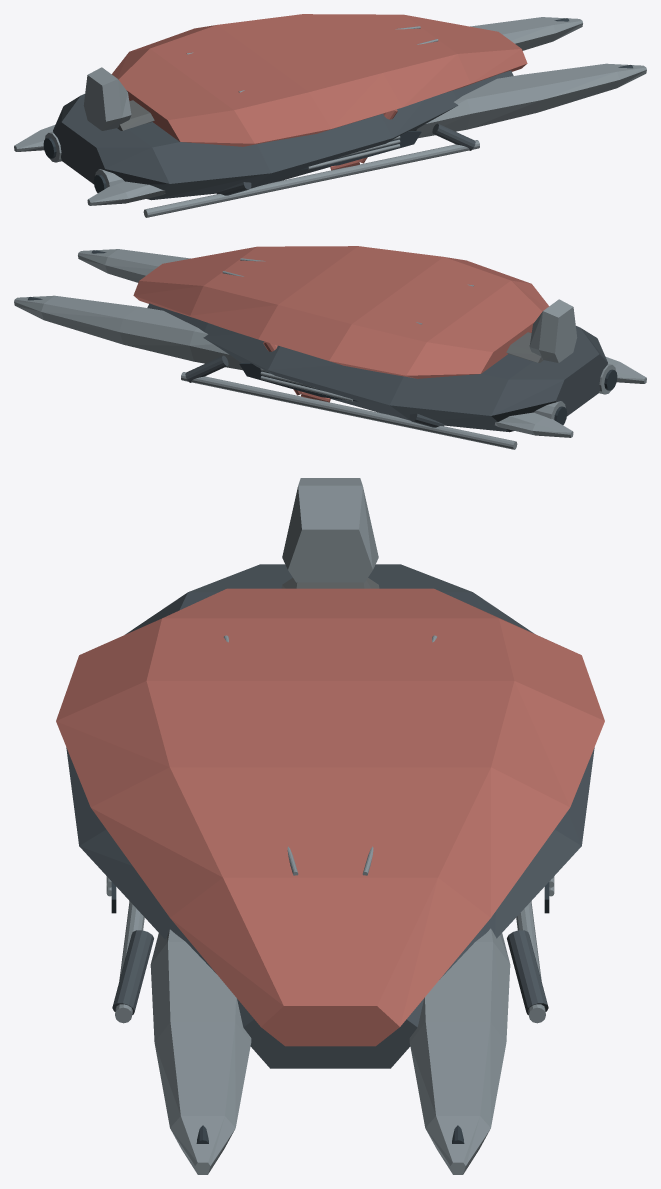
Rendered from solos_red_off.glb.
3 renders of one model, top to bottom at view 1: azimuth 30°, elevation 25°; view 2: azimuth 150°, elevation 25°; view 3: azimuth 270°, elevation 25°, orthographic. The views are drawn at different scales.
Visible parts, largest first — view 1: upper_fairing_1, chassis_0, forward_prongs_2, lower_ski_4, seat_back_10, aft_fins_16, ski_support_5, side_vent_13, vent_louvers_14, seat_cushion_9, aft_engine_6, aft_aperture_7; view 2: upper_fairing_1, chassis_0, forward_prongs_2, lower_ski_4, seat_back_10, aft_fins_16, ski_support_5, side_vent_13, seat_cushion_9, vent_louvers_14, aft_engine_6, aft_aperture_7; view 3: upper_fairing_1, forward_prongs_2, chassis_0, seat_back_10, ski_support_5, lower_ski_4.
Boxes of the visible parts, x1,y1,x2,y2 form: upper_fairing_1: [111, 14, 527, 146]; chassis_0: [53, 70, 513, 200]; forward_prongs_2: [416, 17, 646, 138]; lower_ski_4: [143, 140, 479, 217]; seat_back_10: [83, 67, 131, 130]; aft_fins_16: [14, 125, 165, 205]; ski_support_5: [216, 123, 475, 195]; side_vent_13: [301, 131, 421, 169]; vent_louvers_14: [308, 136, 400, 169]; seat_cushion_9: [117, 100, 154, 130]; aft_engine_6: [45, 131, 124, 187]; aft_aperture_7: [43, 137, 106, 192]; upper_fairing_1: [133, 246, 549, 378]; chassis_0: [147, 303, 607, 432]; forward_prongs_2: [14, 249, 242, 370]; lower_ski_4: [181, 372, 517, 449]; seat_back_10: [529, 299, 577, 362]; aft_fins_16: [495, 357, 646, 437]; ski_support_5: [185, 355, 444, 427]; side_vent_13: [239, 363, 357, 401]; seat_cushion_9: [506, 332, 543, 362]; vent_louvers_14: [260, 368, 352, 401]; aft_engine_6: [533, 363, 615, 419]; aft_aperture_7: [554, 369, 617, 424]; upper_fairing_1: [56, 588, 604, 1046]; forward_prongs_2: [150, 928, 510, 1174]; chassis_0: [66, 564, 594, 1068]; seat_back_10: [282, 478, 378, 582]; ski_support_5: [112, 930, 548, 1014]; lower_ski_4: [115, 901, 545, 1023].
Size of the model in its own units: 6.7 by 1.31 by 2.84.
